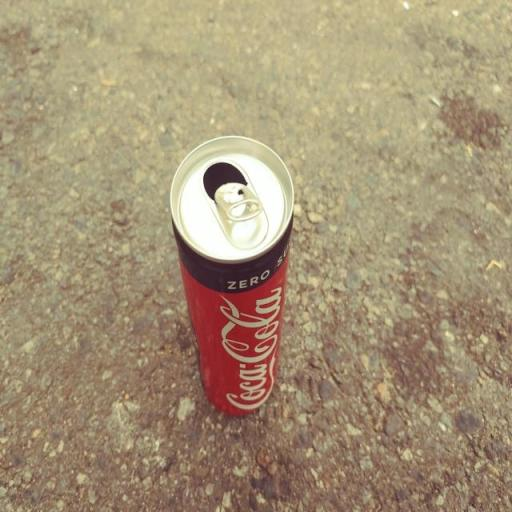metal: (146, 115, 351, 470)
